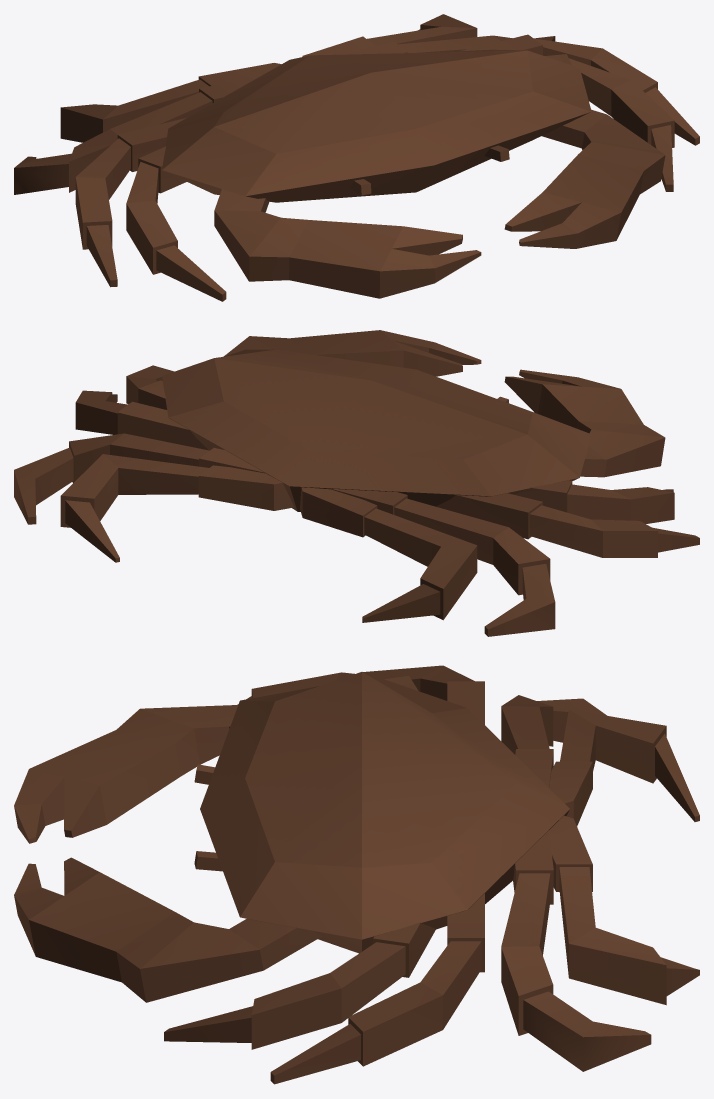
The model's file is crab.glb.
3 renders of one model, top to bottom at view 1: azimuth 30°, elevation 25°; view 2: azimuth 150°, elevation 25°; view 3: azimuth 270°, elevation 25°, orthographic. The views are drawn at different scales.
Parts seen in each view (by area): view 1: crab; view 2: crab; view 3: crab.
Boxes of the visible parts, x1,y1,x2,y2 form: crab: (14,14,699,301); crab: (14,330,699,636); crab: (14,665,699,1084).
Size of the model in its own units: 0.3 by 0.0581 by 0.2357.
